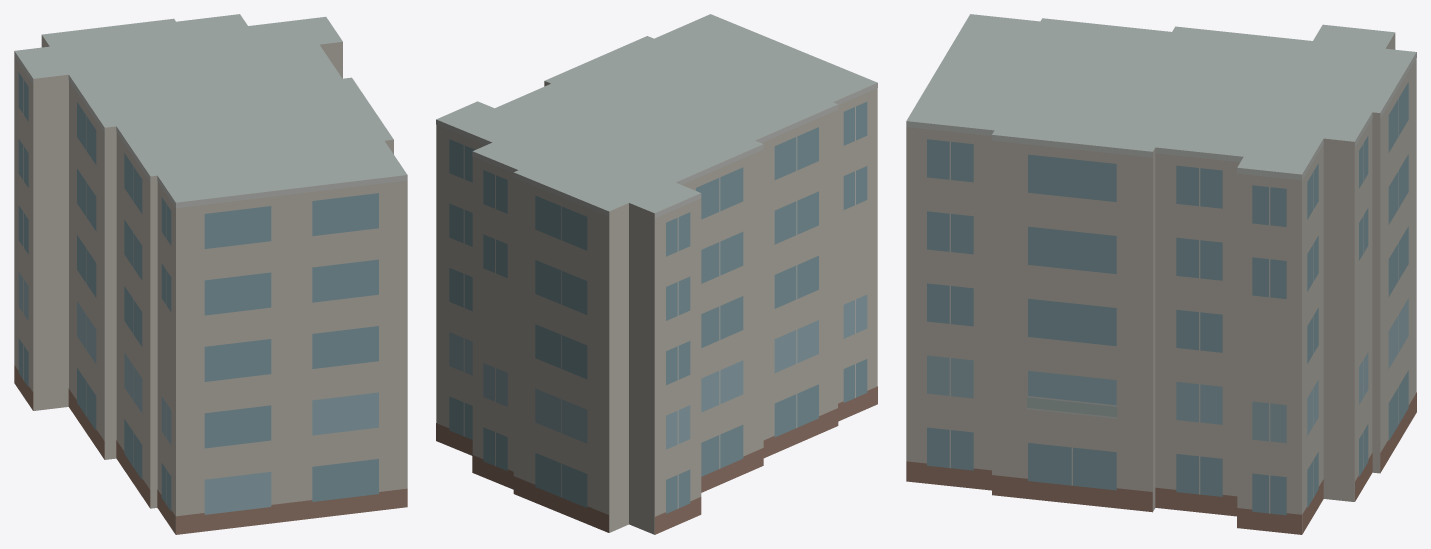
Rendered from survey-upis-32612165.glb.
3 views of the same model, side by side, from view 1: azimuth 30°, elevation 25°; view 2: azimuth 150°, elevation 25°; view 3: azimuth 270°, elevation 25° (orthographic). The views are drawn at different scales.
Parts seen in each view (by area): view 1: survey-upis-32612165.tmp; view 2: survey-upis-32612165.tmp; view 3: survey-upis-32612165.tmp.
Part boxes in pixels (box(x1,y1,x2,y2)): survey-upis-32612165.tmp: box(14, 14, 407, 534); survey-upis-32612165.tmp: box(436, 14, 877, 534); survey-upis-32612165.tmp: box(906, 14, 1416, 534).
Size of the model in its own units: 14.25 by 14.9 by 19.14.
